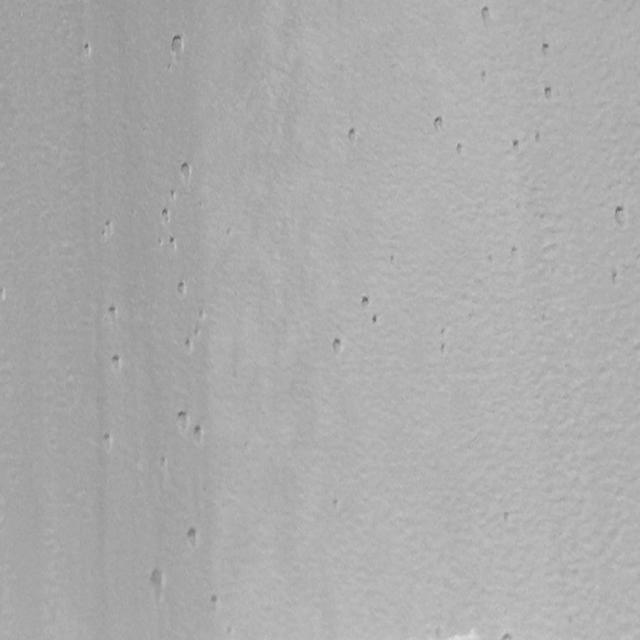pin holes: (146, 565, 168, 597), (168, 32, 188, 62), (612, 203, 632, 230), (182, 525, 202, 552), (476, 2, 496, 28), (428, 115, 448, 139), (177, 158, 194, 184), (345, 124, 364, 147), (191, 424, 209, 448), (98, 216, 116, 240), (100, 429, 118, 452), (606, 268, 624, 290), (329, 335, 346, 358), (207, 592, 225, 613), (174, 408, 191, 430), (542, 84, 558, 104), (107, 303, 122, 324), (174, 280, 189, 301), (360, 294, 376, 313), (540, 41, 554, 61), (112, 353, 126, 373), (510, 136, 525, 154), (453, 140, 468, 158), (160, 207, 173, 227), (82, 41, 95, 60), (167, 234, 180, 252), (184, 336, 197, 354), (501, 628, 520, 640), (370, 311, 384, 327), (479, 68, 491, 85), (533, 129, 545, 145), (196, 308, 208, 322), (0, 287, 9, 305), (332, 493, 341, 510), (510, 245, 520, 260), (502, 511, 511, 526), (168, 189, 178, 202), (440, 326, 447, 340), (442, 344, 444, 356)
